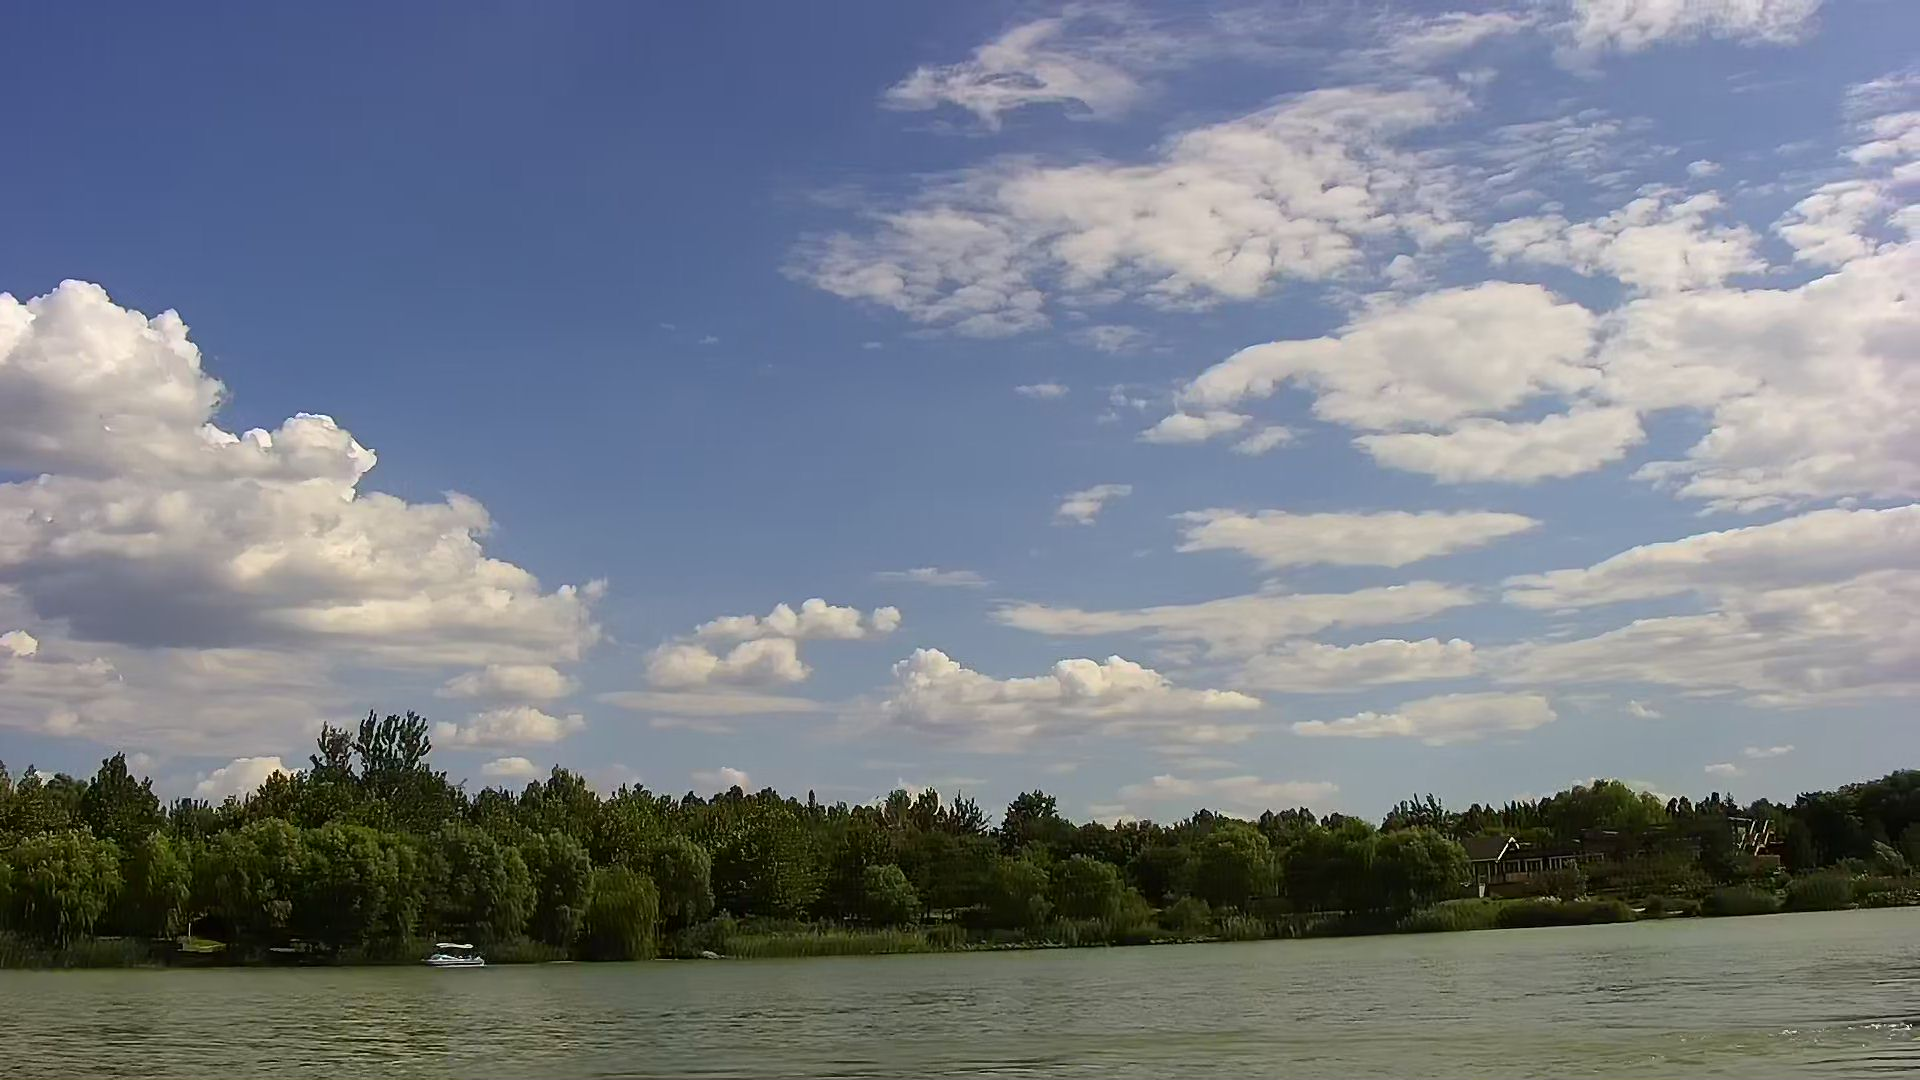boat: (425, 940, 488, 975)
